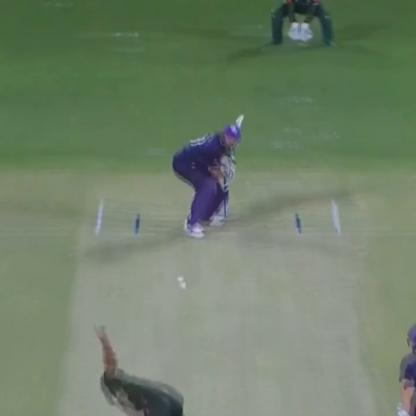ball: (176, 278, 191, 291), (171, 274, 187, 281)
bat: (226, 104, 248, 138)
pitch: (44, 191, 364, 415)
